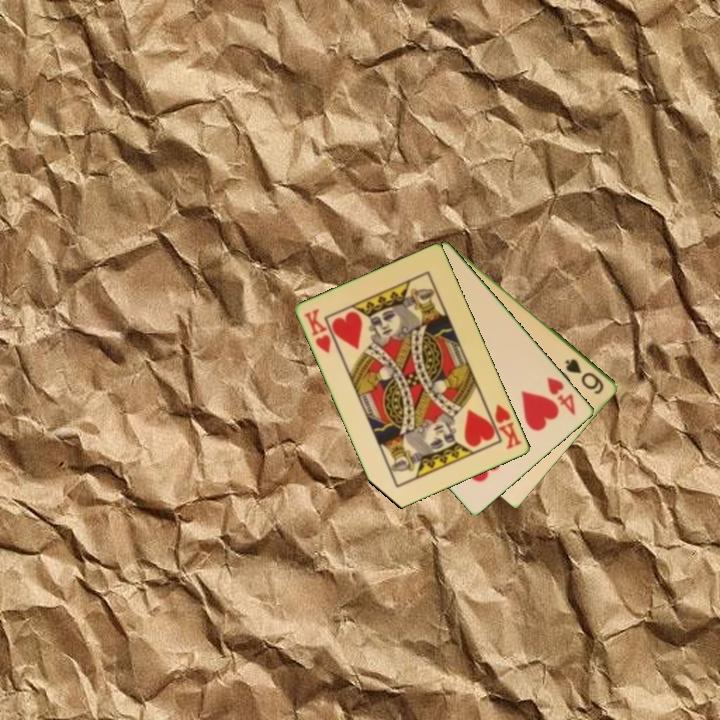4h: (543, 374, 579, 418)
6s: (562, 355, 607, 397)
Kh: (484, 400, 525, 452), (301, 305, 334, 356)
